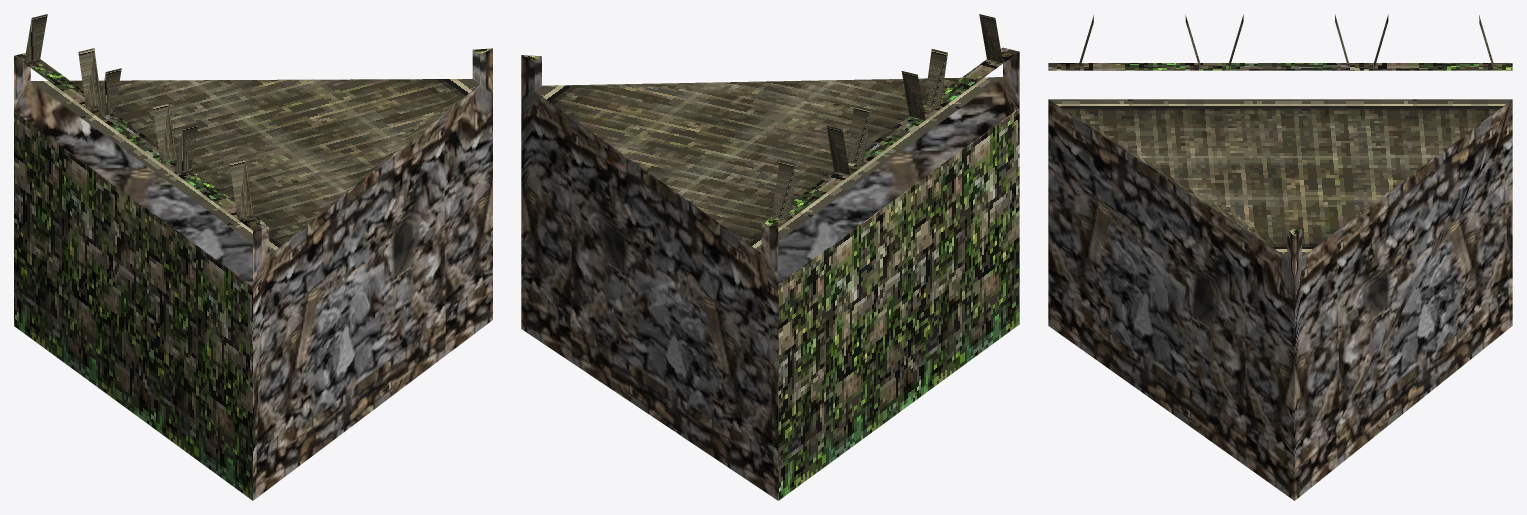
Rendered from Civilian - Civilian Building - Fortress Wall 45 Degree - CMWalAkml6.glb.
3 views of the same model, side by side, from view 1: azimuth 30°, elevation 25°; view 2: azimuth 150°, elevation 25°; view 3: azimuth 270°, elevation 25° (orthographic). The views are drawn at different scales.
Visible parts, largest first — view 1: CMWALAKML6; view 2: CMWALAKML6; view 3: CMWALAKML6.
Boxes of the visible parts, x1=… form: CMWALAKML6: x1=14, y1=14, x2=492, y2=500; CMWALAKML6: x1=521, y1=14, x2=1019, y2=500; CMWALAKML6: x1=1048, y1=14, x2=1512, y2=500.
Bounding box in the file's own units: 51.94 × 43.6 × 58.6.
5 materials, 5 textured.
